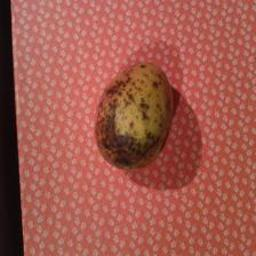Mango Rotten: (91, 55, 178, 178)
